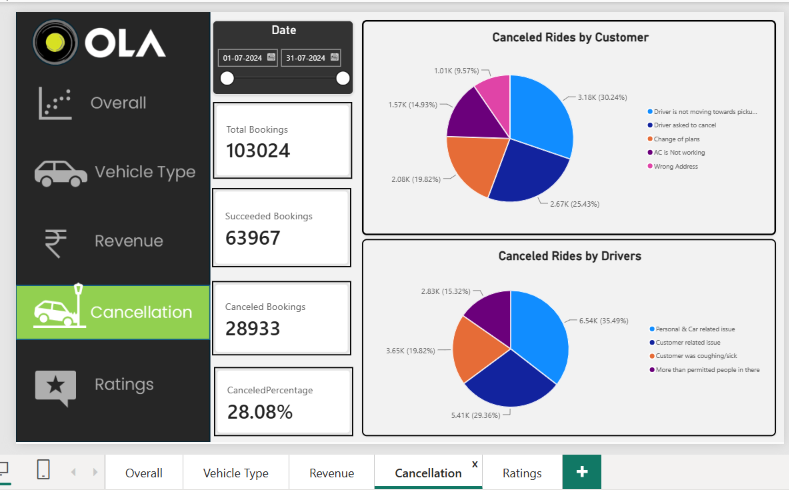

The page's visual inventory and layout, read from the dashboard file:
{"tool":"powerbi","page":{"name":"Cancellation","canvas":[1280,720],"ordinal":3},"visuals":[{"type":"actionButton","box":[0,224.3,326.1,92.3],"z":0},{"type":"actionButton","box":[1.6,326.1,326.1,92.3],"z":1000},{"type":"actionButton","box":[1.6,572.6,326.1,92.3],"z":2000},{"type":"actionButton","box":[0,103.3,326.1,92.3],"z":3000},{"type":"pieChart","title":"Canceled Rides by Customer","fields":{"Category":["July.Canceled_Rides_by_Customer"],"Y":["CountNonNull(July.Canceled_Rides_by_Customer)"]},"box":[576.7,13.3,690,358.3],"z":4000},{"type":"pieChart","title":"Canceled Rides by Drivers","fields":{"Category":["July.Canceled_Rides_by_Driver"],"Y":["CountNonNull(July.Canceled_Rides_by_Driver)"]},"box":[576.4,378,689.8,328.8],"z":5000},{"type":"slicer","title":"Date","fields":{"Values":["July.Date"]},"box":[326.7,13.3,236.7,125],"z":6000},{"type":"cardVisual","title":"Total Bookings","fields":{"Data":["CountNonNull(July.Booking_ID)"]},"box":[328.8,149.3,232.4,128.5],"z":7000},{"type":"cardVisual","title":"Total Bookings","fields":{"Data":["CountNonNull(July.Booking_ID)"]},"box":[326.9,292.9,232.4,132.3],"z":8000},{"type":"cardVisual","title":"Total Bookings","fields":{"Data":["July.CanceledPercentage"]},"box":[330.7,591.5,232.4,115.3],"z":9000},{"type":"cardVisual","title":"Total Bookings","fields":{"Data":["CountNonNull(July.Booking_ID)"]},"box":[326.9,447.9,232.4,124.7],"z":10000}]}

Visuals, with their boxes in screenshot pixels (x1, y1, x2, y2):
actionButton: {"x1": 10, "y1": 143, "x2": 208, "y2": 199}
actionButton: {"x1": 11, "y1": 204, "x2": 209, "y2": 260}
actionButton: {"x1": 11, "y1": 354, "x2": 209, "y2": 410}
actionButton: {"x1": 10, "y1": 69, "x2": 208, "y2": 125}
"Canceled Rides by Customer" pieChart: {"x1": 361, "y1": 14, "x2": 780, "y2": 232}
"Canceled Rides by Drivers" pieChart: {"x1": 361, "y1": 236, "x2": 780, "y2": 436}
"Date" slicer: {"x1": 209, "y1": 14, "x2": 353, "y2": 90}
"Total Bookings" cardVisual: {"x1": 210, "y1": 97, "x2": 351, "y2": 175}
"Total Bookings" cardVisual: {"x1": 209, "y1": 184, "x2": 350, "y2": 265}
"Total Bookings" cardVisual: {"x1": 211, "y1": 366, "x2": 353, "y2": 436}
"Total Bookings" cardVisual: {"x1": 209, "y1": 278, "x2": 350, "y2": 354}
